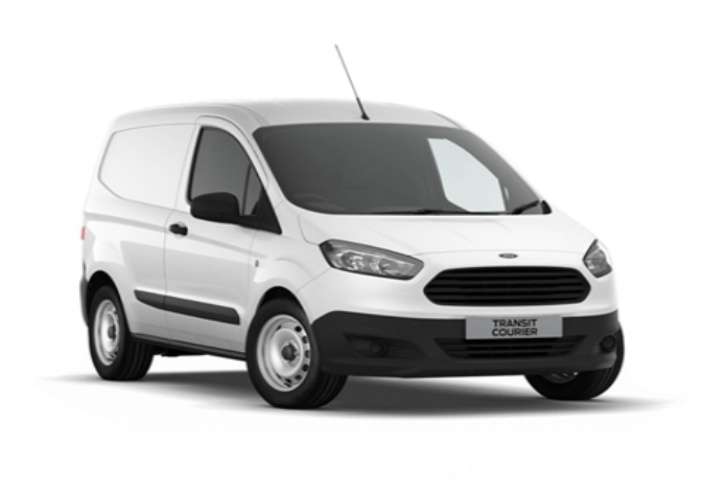van: (49, 75, 645, 419)
